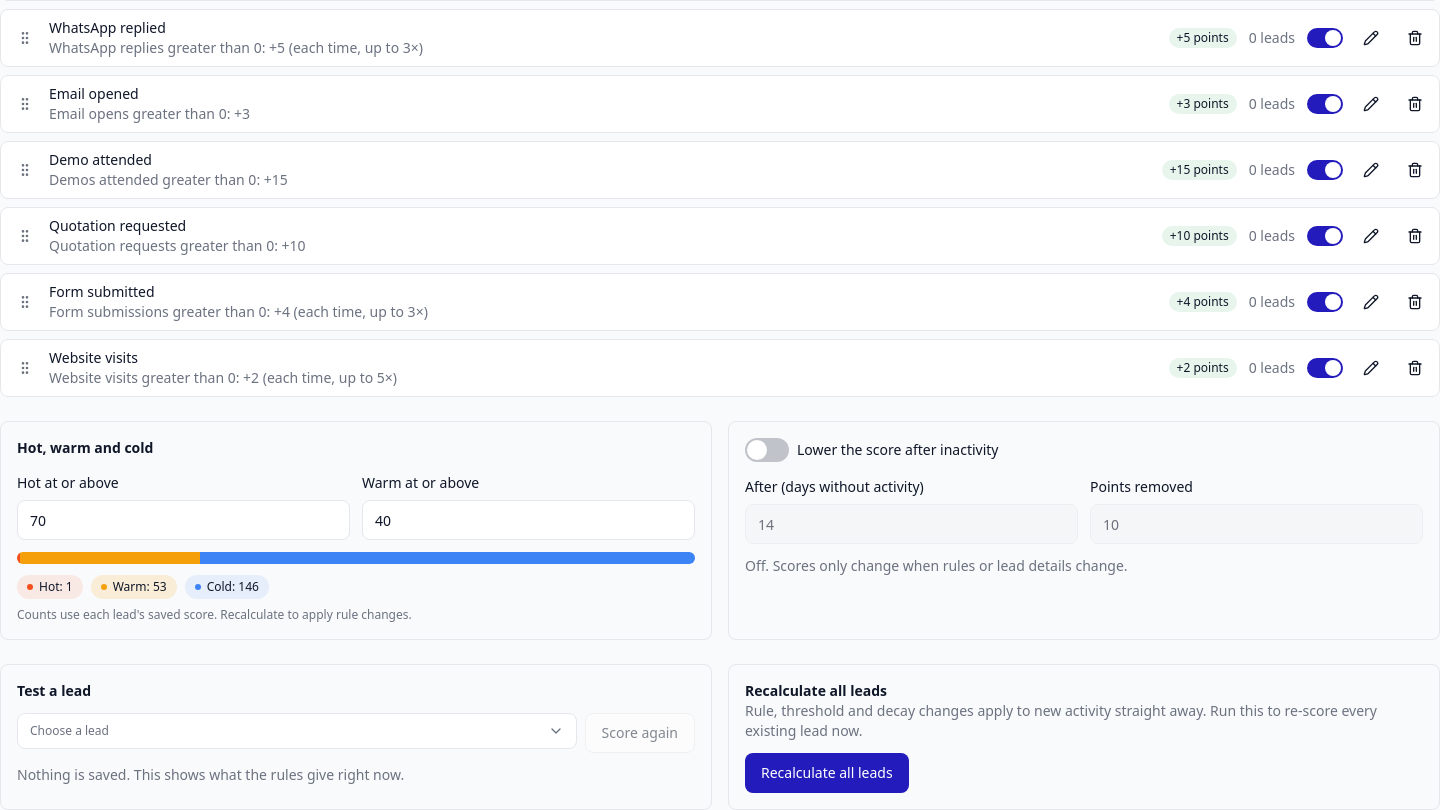
Test: ScoringSettingsPage › recalculates all leads with progress and a summary
(page scrolled)
Click the button "Recalculate all leads".
click(827, 773)  # box [745,753,909,793]
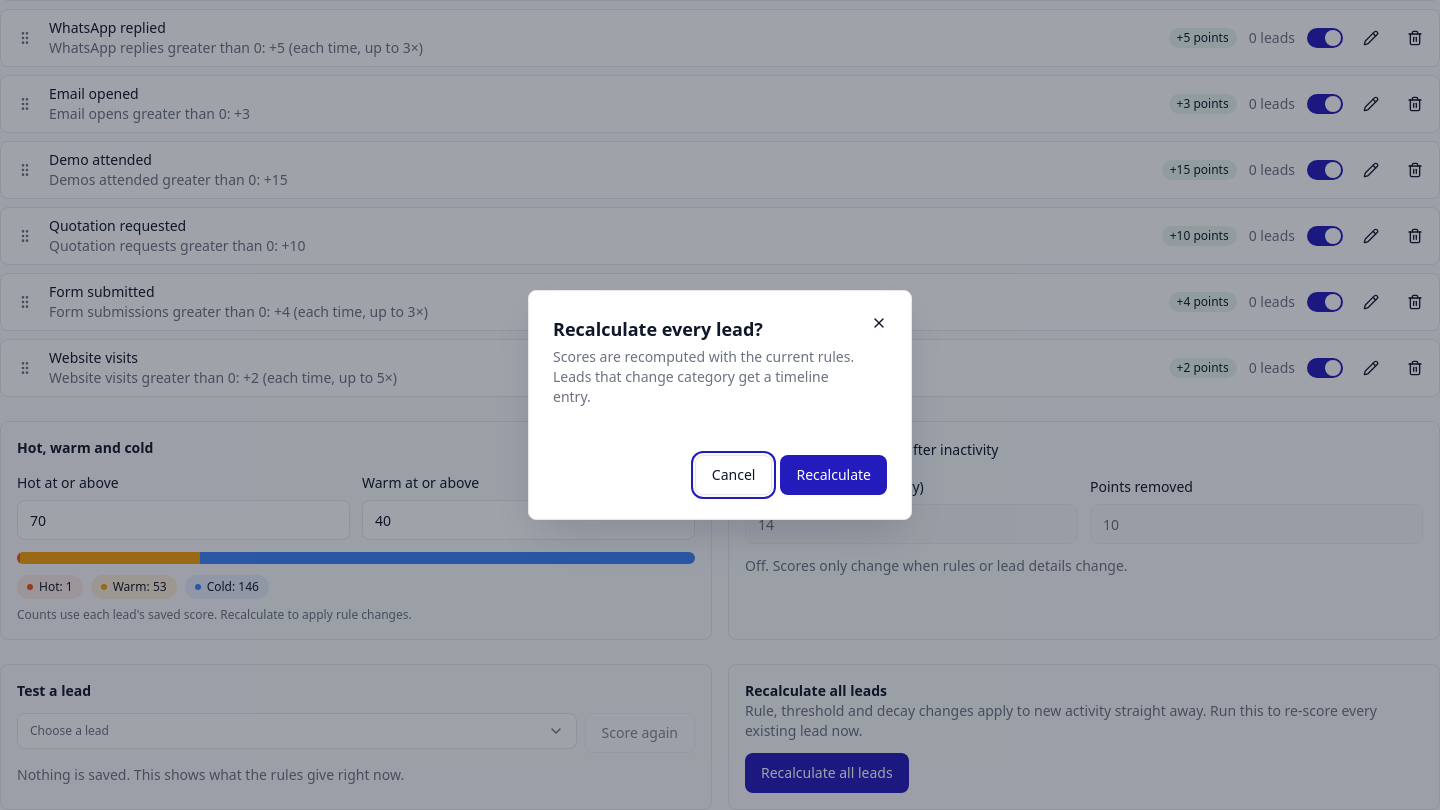
Click the button "Recalculate".
click(834, 475)  # box [780,455,887,495]
(page scrolled)
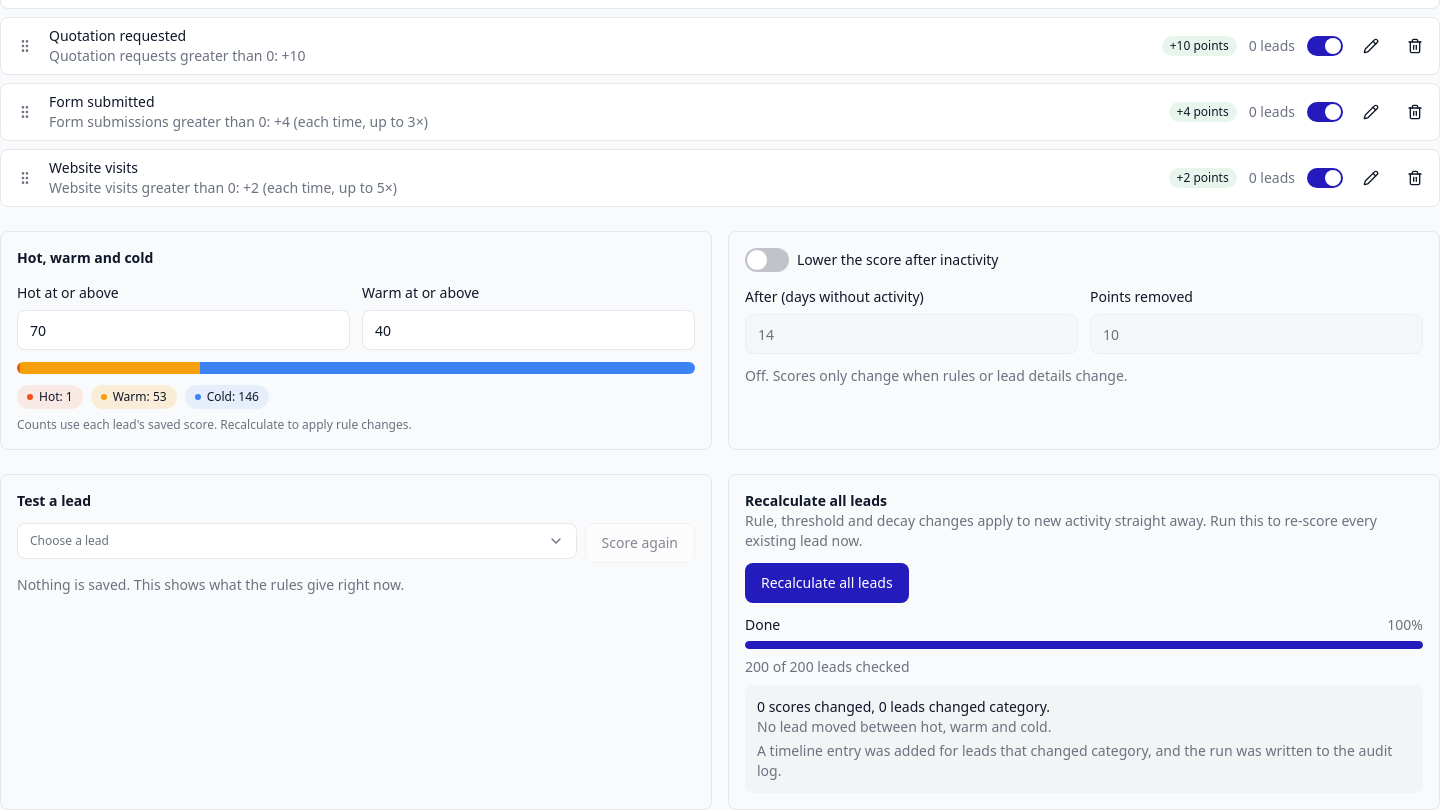
Check: the text "0 scores changed, 0 leads changed category." is shown, box [757,697,1050,716]
Check: the text "200 of 200 leads checked" is shown, box [745,657,910,676]
